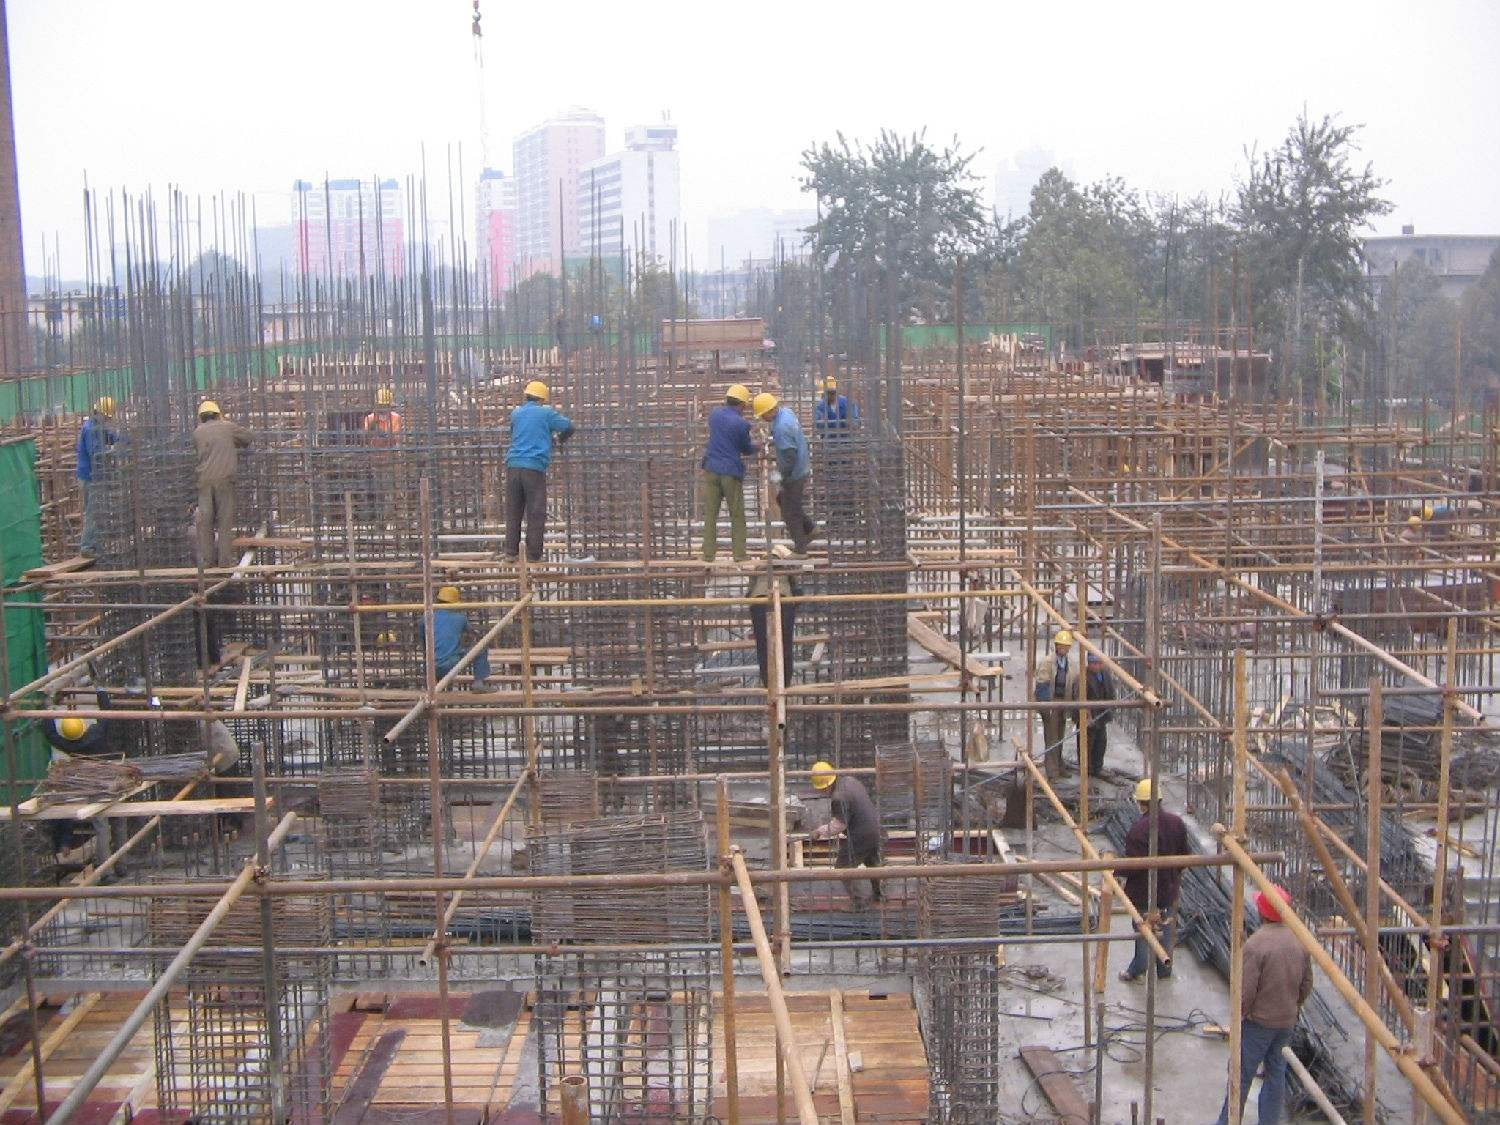red: (1252, 880, 1294, 932)
yellow: (803, 754, 837, 798), (1131, 773, 1162, 815), (520, 377, 552, 410), (719, 381, 750, 415), (750, 386, 778, 422), (89, 389, 116, 424), (195, 394, 223, 427), (432, 583, 462, 613), (811, 368, 839, 399), (371, 385, 394, 415), (1051, 627, 1072, 656)
